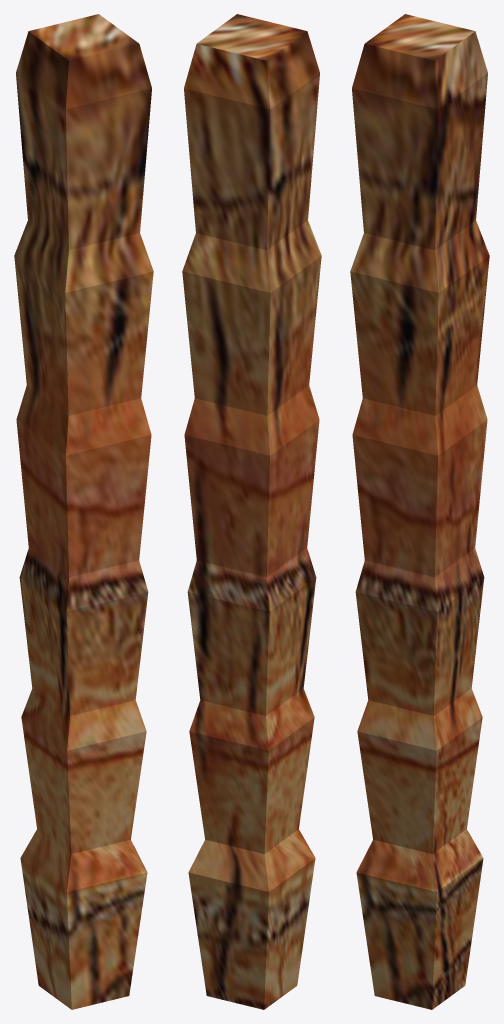
File: Palmtree_noTop.fbx
3 views of the same model, side by side, from view 1: azimuth 30°, elevation 25°; view 2: azimuth 150°, elevation 25°; view 3: azimuth 330°, elevation 25° (orthographic).
Parts seen in each view (by area): view 1: tree; view 2: tree; view 3: tree.
Boxes of the visible parts, x1=… form: tree: x1=14, y1=14, x2=153, y2=1009; tree: x1=182, y1=14, x2=321, y2=1009; tree: x1=350, y1=14, x2=489, y2=1009.
Size of the model in its own units: 88.4 by 911 by 88.4.
1 material, 1 textured.
